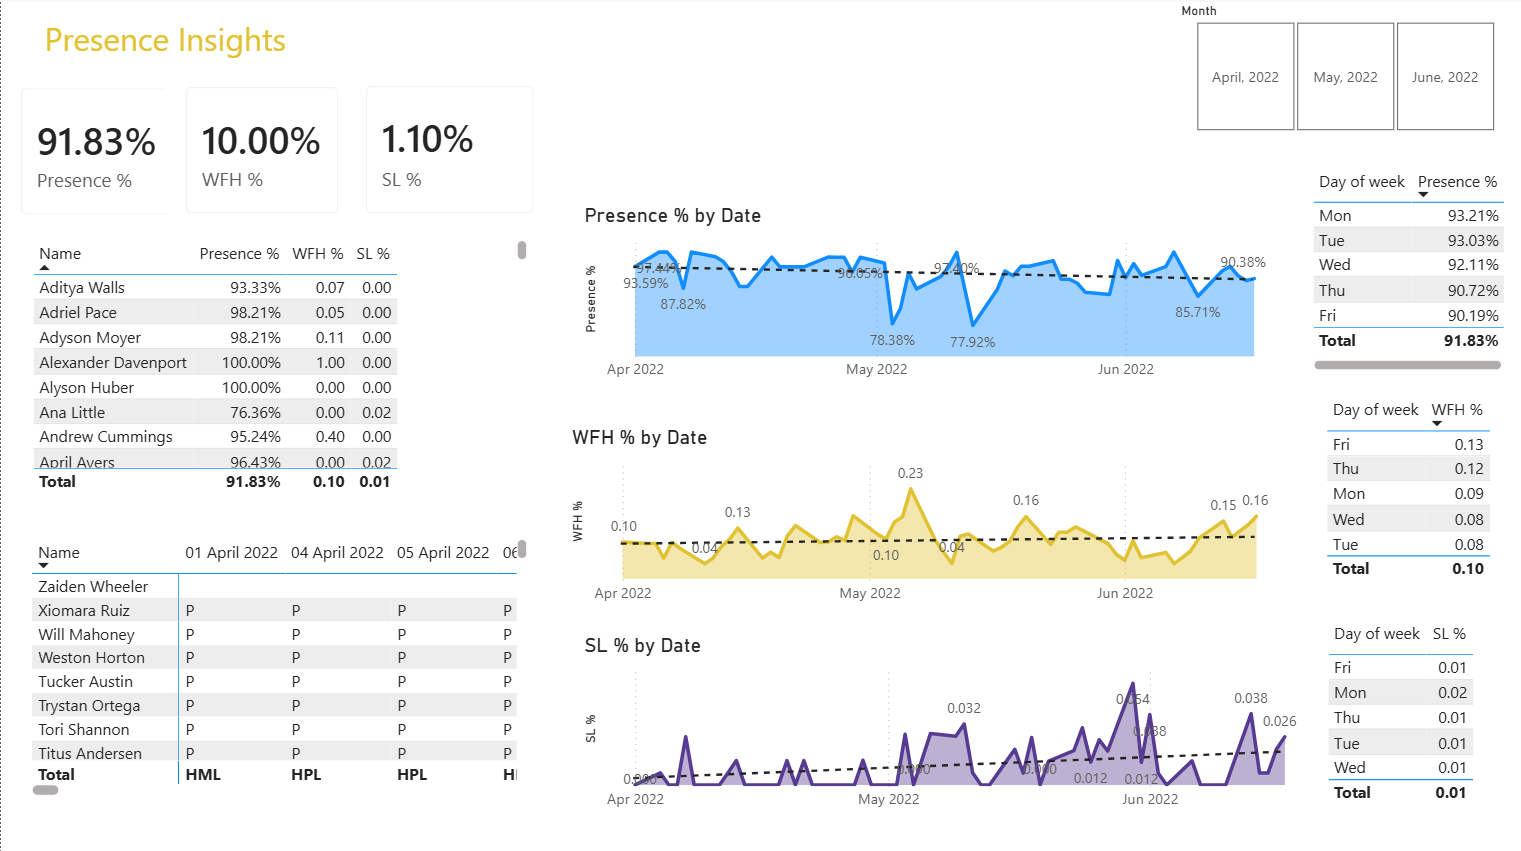

The dashboard page shown, as its layout file describes it:
{"tool":"powerbi","page":{"name":"Page 1","canvas":[1280,720],"ordinal":0},"visuals":[{"type":"cardVisual","fields":{"Data":["Measure Table (2).Presence %"]},"box":[0,60,166.2,140],"z":0},{"type":"slicer","fields":{"Values":["Final Data.Month"]},"box":[980,0,300,118.8],"z":1000},{"type":"cardVisual","fields":{"Data":["Measure Table (2).WFH %"]},"box":[138.8,58.8,162.5,140],"z":2000},{"type":"cardVisual","fields":{"Data":["Measure Table (2).SL %"]},"box":[290,57.5,175,141.2],"z":3000},{"type":"tableEx","fields":{"Values":["Final Data.Name","Measure Table (2).Presence %","Measure Table (2).WFH %","Measure Table (2).SL %"]},"box":[20.9,200,426.7,222.1],"z":4000},{"type":"textbox","box":[0,11.2,276.2,48.8],"z":5000},{"type":"pivotTable","fields":{"Rows":["Final Data.Name"],"Values":["Min(Final Data.Value)"],"Columns":["Final Data.Date"]},"box":[20.9,451.2,426.7,225.6],"z":6000},{"type":"areaChart","fields":{"Category":["Final Data.Date"],"Y":["Measure Table (2).Presence %"]},"box":[485.8,173.5,597.6,158.1],"z":7000},{"type":"areaChart","fields":{"Category":["Final Data.Date"],"Y":["Measure Table (2).WFH %"]},"box":[475,360,610,160],"z":8000},{"type":"areaChart","fields":{"Category":["Final Data.Date"],"Y":["Measure Table (2).SL %"]},"box":[485.6,535.6,623.3,157.8],"z":9000},{"type":"tableEx","fields":{"Values":["Final Data.Day of week","Measure Table (2).Presence %"]},"box":[1097.8,138.9,171.1,180],"z":10000},{"type":"tableEx","fields":{"Values":["Final Data.Day of week","Measure Table (2).WFH %"]},"box":[1108.9,331.1,150,167.8],"z":11000},{"type":"tableEx","fields":{"Values":["Final Data.Day of week","Measure Table (2).SL %"]},"box":[1110,518.9,148.9,174.4],"z":11001}]}

Visuals, with their boxes in screenshot pixels (x1, y1, x2, y2), scaled from the page's 1280x720 canvas onto the 1521x851 screenshot:
cardVisual - Measure Table (2).Presence %: [left=0, top=71, right=197, bottom=236]
slicer - Final Data.Month: [left=1165, top=0, right=1520, bottom=140]
cardVisual - Measure Table (2).WFH %: [left=165, top=69, right=358, bottom=235]
cardVisual - Measure Table (2).SL %: [left=345, top=68, right=553, bottom=235]
tableEx - Final Data.Name x Measure Table (2).Presence %: [left=25, top=236, right=532, bottom=499]
textbox: [left=0, top=13, right=328, bottom=71]
pivotTable - Final Data.Name x Min(Final Data.Value): [left=25, top=533, right=532, bottom=800]
areaChart - Final Data.Date x Measure Table (2).Presence %: [left=577, top=205, right=1287, bottom=392]
areaChart - Final Data.Date x Measure Table (2).WFH %: [left=564, top=426, right=1289, bottom=615]
areaChart - Final Data.Date x Measure Table (2).SL %: [left=577, top=633, right=1318, bottom=820]
tableEx - Final Data.Day of week x Measure Table (2).Presence %: [left=1304, top=164, right=1508, bottom=377]
tableEx - Final Data.Day of week x Measure Table (2).WFH %: [left=1318, top=391, right=1496, bottom=590]
tableEx - Final Data.Day of week x Measure Table (2).SL %: [left=1319, top=613, right=1496, bottom=819]
